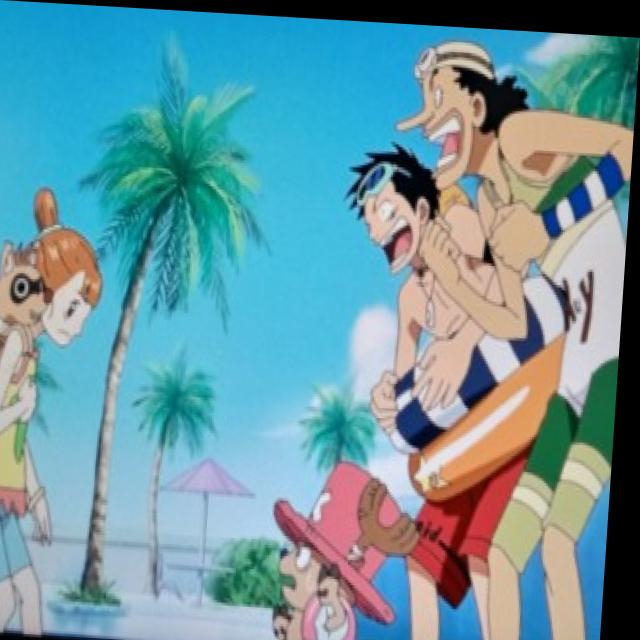Chyopa: (271, 440, 431, 640)
Luffy: (342, 138, 444, 278)
Usopp: (381, 32, 536, 188)
